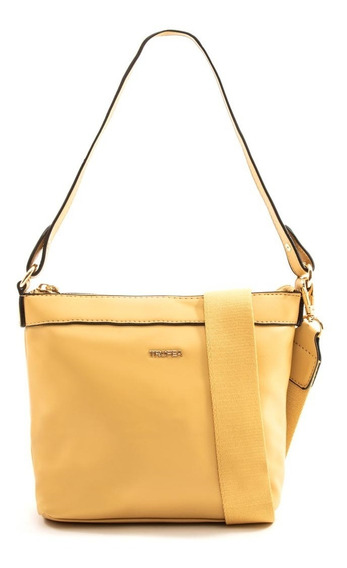cartera: (14, 26, 324, 531)
